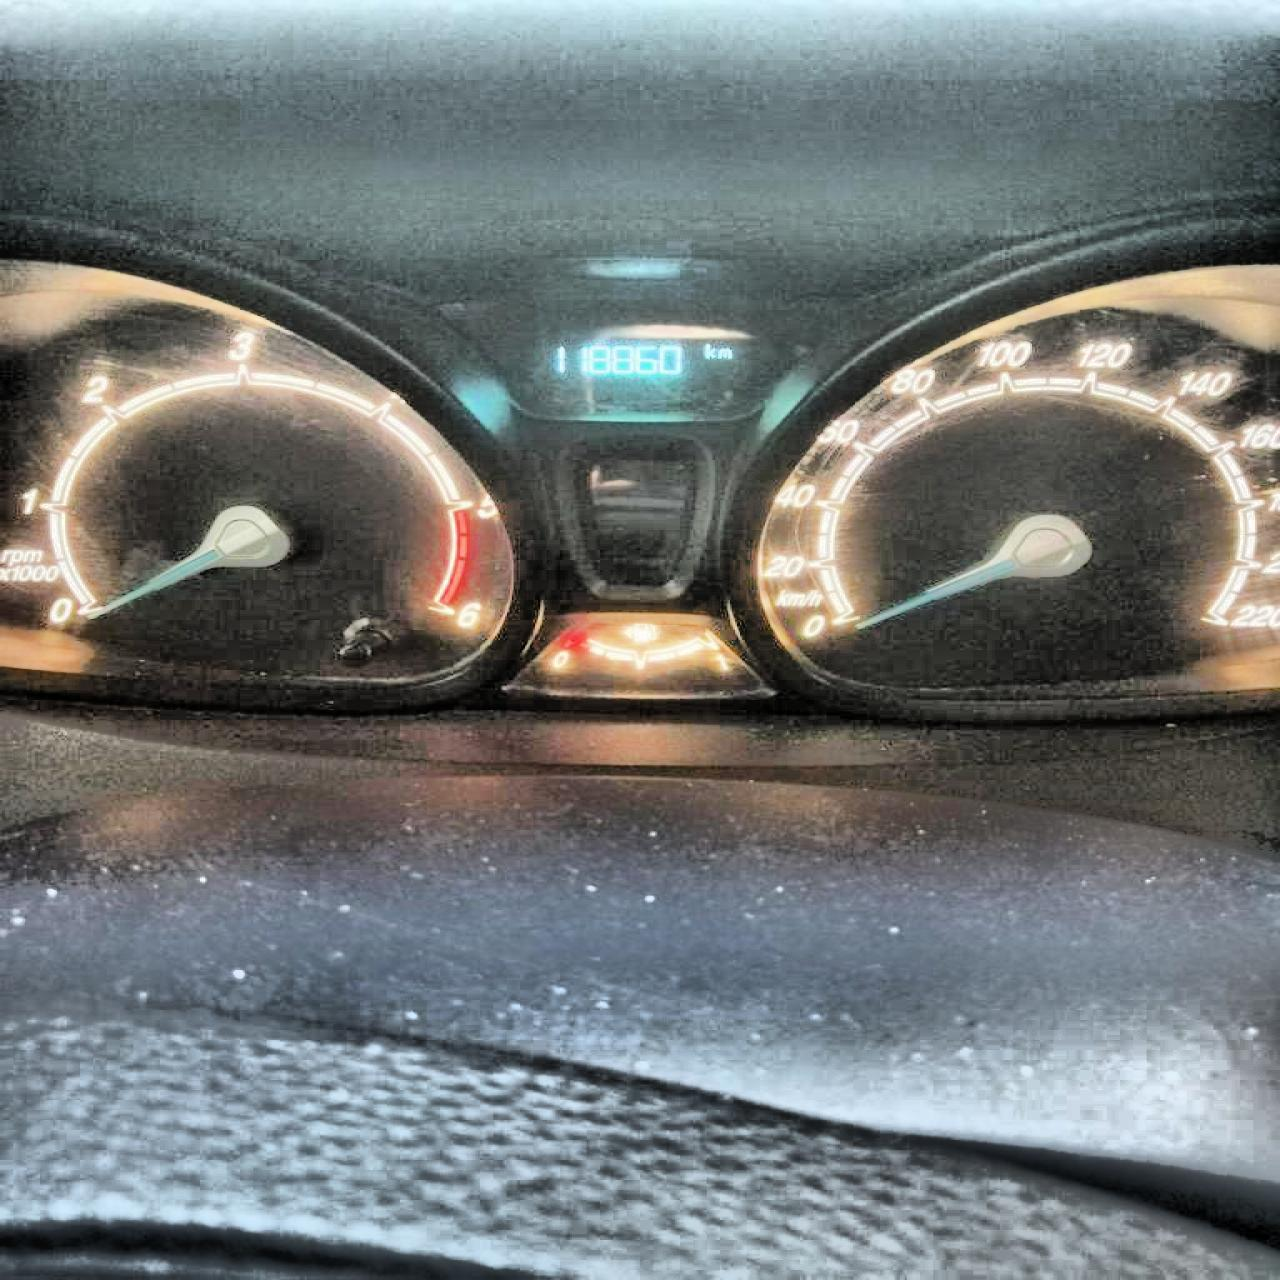0: (656, 343, 681, 374)
1: (554, 343, 568, 374), (580, 345, 587, 374)
6: (635, 343, 655, 374)
8: (610, 343, 633, 375), (588, 343, 610, 373)
X: (703, 342, 715, 358), (716, 347, 731, 358)
odometer: (526, 324, 755, 401)
